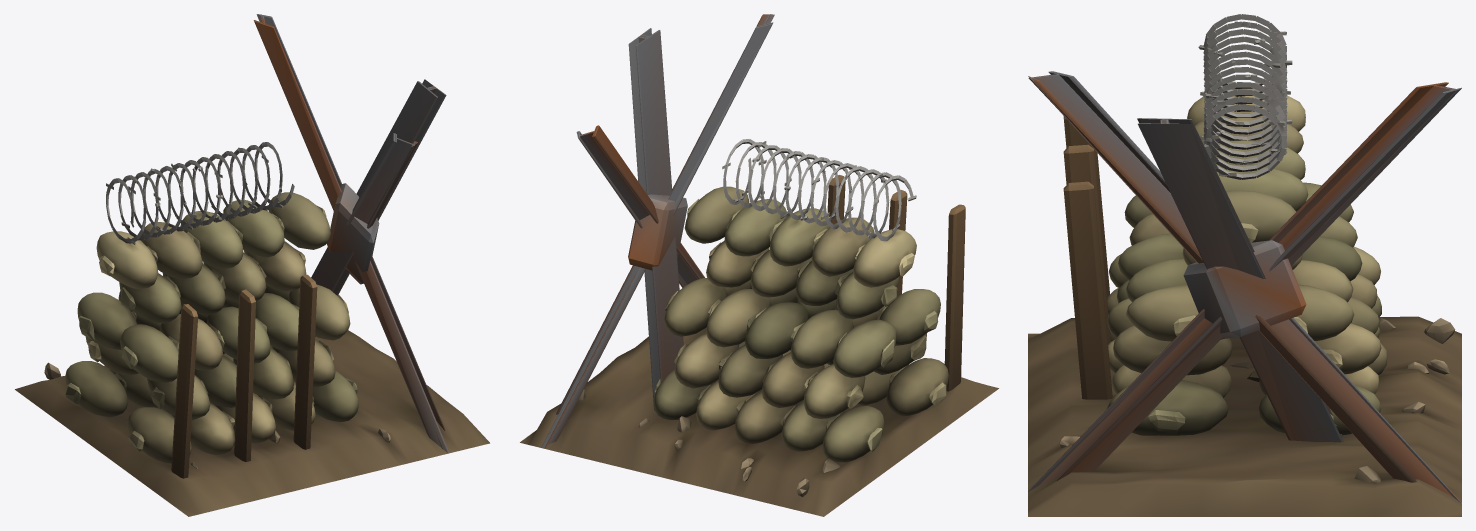
Rendered from barricade.glb.
3 renders of one model, left to right at view 1: azimuth 30°, elevation 25°; view 2: azimuth 150°, elevation 25°; view 3: azimuth 270°, elevation 25°, orthographic. The views are drawn at different scales.
Parts seen in each view (by area): view 1: barricade; view 2: barricade; view 3: barricade.
Part boxes in pixels (box(x1,y1,x2,y2)): barricade: box(15, 14, 489, 516); barricade: box(520, 14, 998, 516); barricade: box(1028, 14, 1461, 516).
Bounding box in the file's own units: 1 × 1 × 1.
